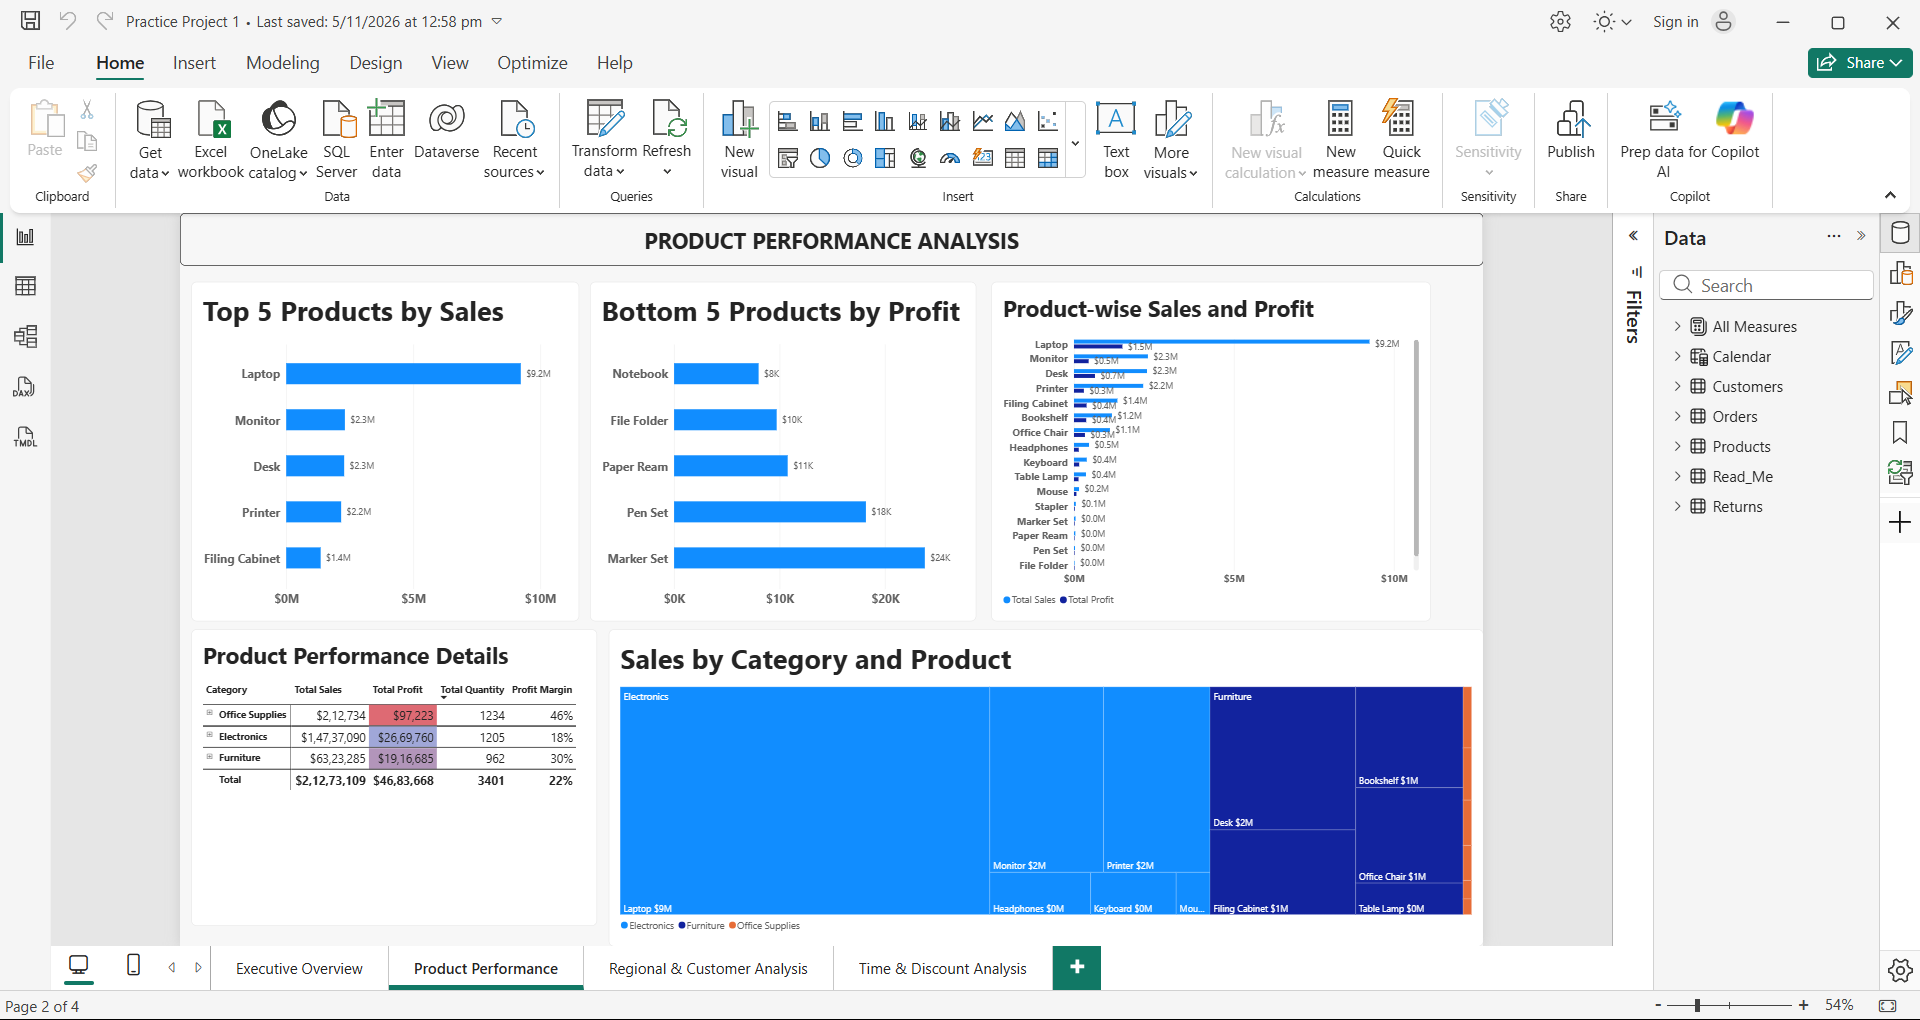

Layout of this report page (visuals, bound fields, positions):
{"tool":"powerbi","page":{"name":"Product Performance","canvas":[1920,1080],"ordinal":1},"visuals":[{"type":"textbox","box":[0,0,1919.6,77.9],"z":0},{"type":"clusteredBarChart","title":"Top 5 Products by Sales","fields":{"Category":["Products.ProductName"],"Y":["All Measures.Total Sales"]},"box":[17.3,101.7,571.3,499.9],"z":1000},{"type":"clusteredBarChart","title":"Bottom 5 Products by Profit","fields":{"Category":["Products.ProductName"],"Y":["All Measures.Total Profit"]},"box":[603.8,101.7,569.2,499.9],"z":2000},{"type":"treemap","title":"Sales by Category and Product","fields":{"Details":["Products.ProductName"],"Group":["Products.Category"],"Values":["All Measures.Total Sales"]},"box":[631.9,612.5,1287.7,467.5],"z":3000},{"type":"clusteredBarChart","title":"Product-wise Sales and Profit","fields":{"Category":["Products.ProductName"],"Y":["All Measures.Total Sales","All Measures.Total Profit"]},"box":[1194.6,101.7,647.1,499.9],"z":4000},{"type":"pivotTable","title":"Product Performance Details","fields":{"Rows":["Products.Category","Products.ProductName"],"Values":["All Measures.Total Sales","All Measures.Total Profit","All Measures.Total Quantity","All Measures.Profit Margin"]},"box":[17.3,612.5,597.3,437.2],"z":5000}]}

Visuals, with their boxes on the page's 1920x1080 design canvas (x1, y1, x2, y2). These are canvas units, not pixel positions in the 1920x1020 screenshot, which may show the page scaled, cropped or inside an application window:
textbox: bbox(0, 0, 1920, 78)
"Top 5 Products by Sales" clusteredBarChart: bbox(17, 102, 589, 602)
"Bottom 5 Products by Profit" clusteredBarChart: bbox(604, 102, 1173, 602)
"Sales by Category and Product" treemap: bbox(632, 612, 1920, 1080)
"Product-wise Sales and Profit" clusteredBarChart: bbox(1195, 102, 1842, 602)
"Product Performance Details" pivotTable: bbox(17, 612, 615, 1050)
